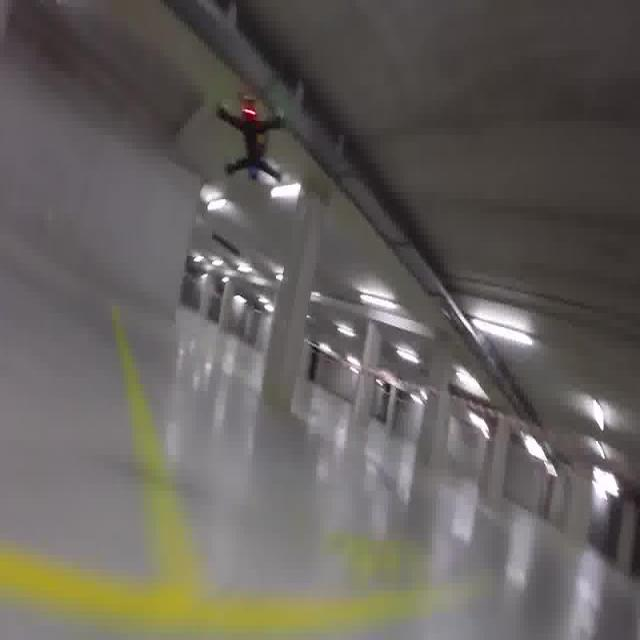drones: (211, 84, 291, 188)
